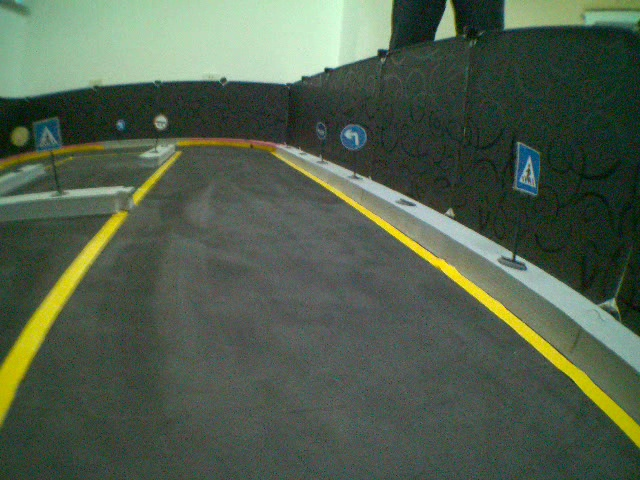Check: (152, 113, 168, 130)
crossing: (512, 143, 544, 197), (32, 120, 63, 151)
horn: (311, 122, 332, 144)
turn: (339, 122, 367, 151)
